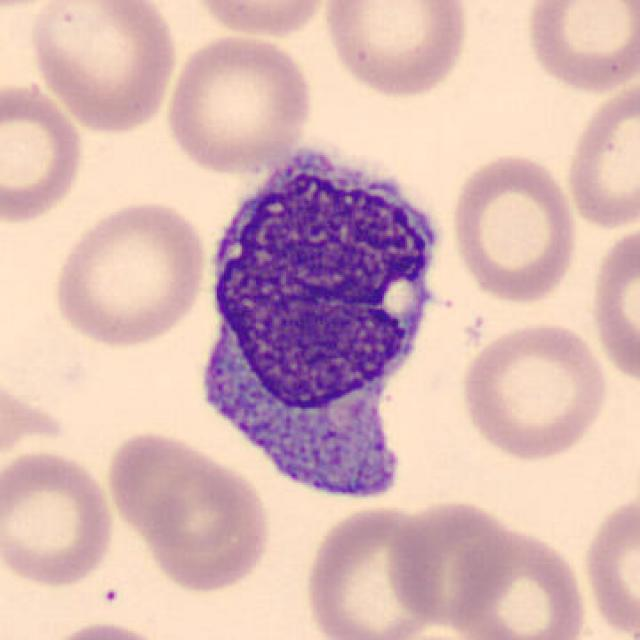Monocyte: (186, 129, 452, 518)
RBC: (102, 425, 276, 594), (46, 196, 212, 349), (455, 317, 612, 464), (160, 30, 318, 176), (446, 148, 582, 307), (23, 0, 181, 136), (300, 502, 442, 640), (382, 496, 523, 628), (0, 446, 119, 591), (444, 523, 591, 640), (318, 0, 472, 100), (0, 76, 87, 227), (560, 78, 638, 232), (519, 0, 638, 97), (579, 486, 640, 638), (586, 218, 640, 389), (183, 0, 336, 41), (39, 617, 173, 640), (0, 0, 73, 14)
